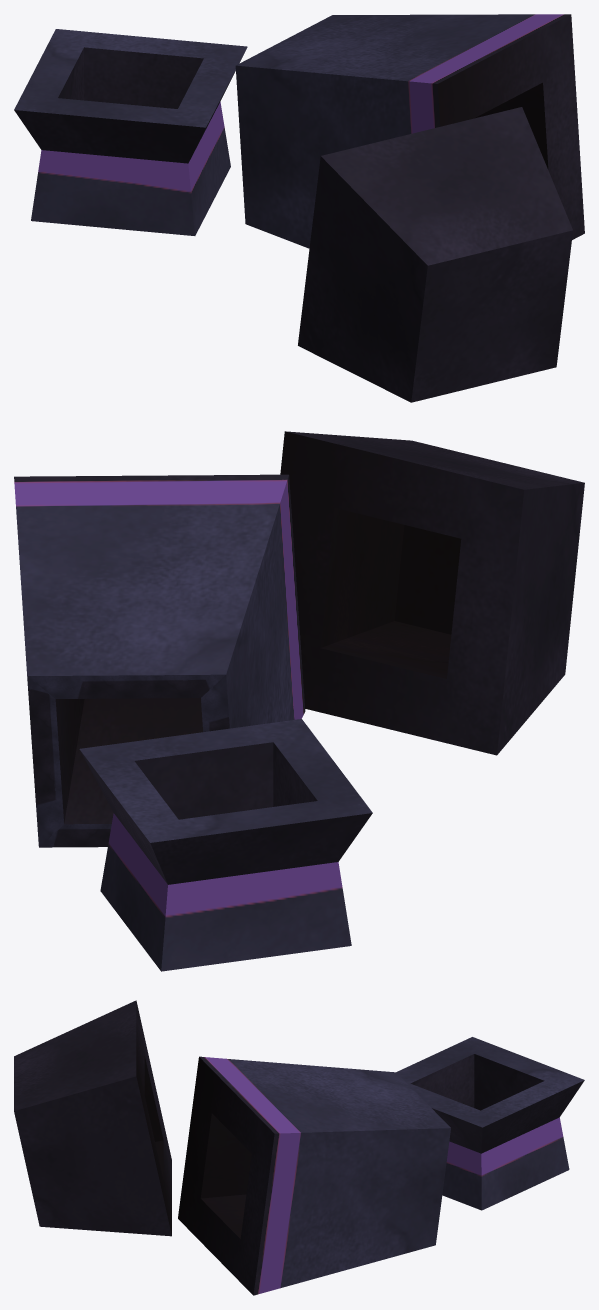
The model's file is Pots_Broken.fbx.
The picture shows the model from 3 angles, top to bottom: view 1: azimuth 30°, elevation 25°; view 2: azimuth 150°, elevation 25°; view 3: azimuth 270°, elevation 25°; orthographic projection. The views are drawn at different scales.
Parts seen in each view (by area): view 1: pCube709; view 2: pCube709; view 3: pCube709.
Part boxes in pixels (left/top/right/bottom): pCube709: left=14, top=14, right=584, bottom=402; pCube709: left=14, top=431, right=584, bottom=971; pCube709: left=14, top=1000, right=584, bottom=1295.
Bounding box in the file's own units: 2.96 × 1.44 × 4.39.
